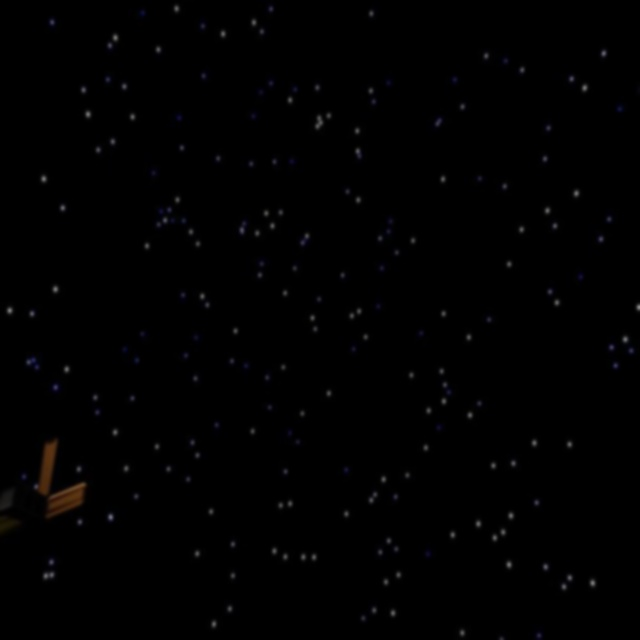satellite: (0, 438, 93, 560)
